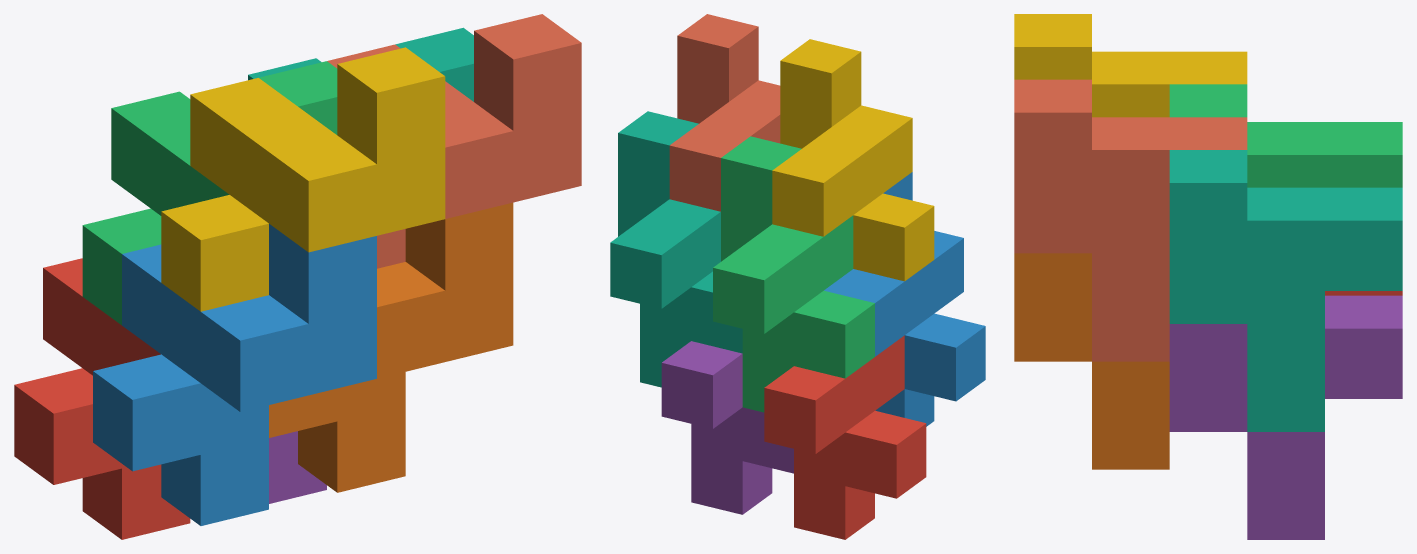
The model's file is tiling.obj.
The picture shows the model from 3 angles, left to right: view 1: azimuth 30°, elevation 25°; view 2: azimuth 150°, elevation 25°; view 3: azimuth 270°, elevation 25°; orthographic projection. The views are drawn at different scales.
Parts seen in each view (by area): view 1: copy_1_domain_2, copy_1_domain_4, copy_1_domain_6, copy_1_domain_8, copy_1_domain_1, copy_1_domain_3, copy_1_domain_7, copy_1_domain_5; view 2: copy_1_domain_3, copy_1_domain_4, copy_1_domain_1, copy_1_domain_7, copy_1_domain_2, copy_1_domain_8, copy_1_domain_5; view 3: copy_1_domain_7, copy_1_domain_8, copy_1_domain_5, copy_1_domain_6, copy_1_domain_4, copy_1_domain_3.
Boxes of the visible parts, x1=… form: copy_1_domain_2: x1=93, y1=224, x2=376, y2=525; copy_1_domain_4: x1=161, y1=47, x2=445, y2=311; copy_1_domain_6: x1=269, y1=202, x2=513, y2=492; copy_1_domain_8: x1=327, y1=14, x2=581, y2=268; copy_1_domain_1: x1=14, y1=258, x2=190, y2=539; copy_1_domain_3: x1=82, y1=61, x2=337, y2=325; copy_1_domain_7: x1=248, y1=27, x2=473, y2=101; copy_1_domain_5: x1=269, y1=431, x2=326, y2=503; copy_1_domain_3: x1=713, y1=136, x2=874, y2=412; copy_1_domain_4: x1=772, y1=39, x2=934, y2=281; copy_1_domain_1: x1=764, y1=335, x2=926, y2=539; copy_1_domain_7: x1=610, y1=111, x2=742, y2=387; copy_1_domain_2: x1=824, y1=172, x2=985, y2=426; copy_1_domain_8: x1=669, y1=14, x2=780, y2=211; copy_1_domain_5: x1=661, y1=341, x2=793, y2=514; copy_1_domain_7: x1=1169, y1=150, x2=1402, y2=431; copy_1_domain_8: x1=1014, y1=79, x2=1247, y2=361; copy_1_domain_5: x1=1169, y1=295, x2=1402, y2=539; copy_1_domain_6: x1=1014, y1=253, x2=1169, y2=469; copy_1_domain_4: x1=1014, y1=14, x2=1247, y2=117; copy_1_domain_3: x1=1169, y1=84, x2=1402, y2=187.
Bounding box in the file's own units: 6 × 7 × 5.
